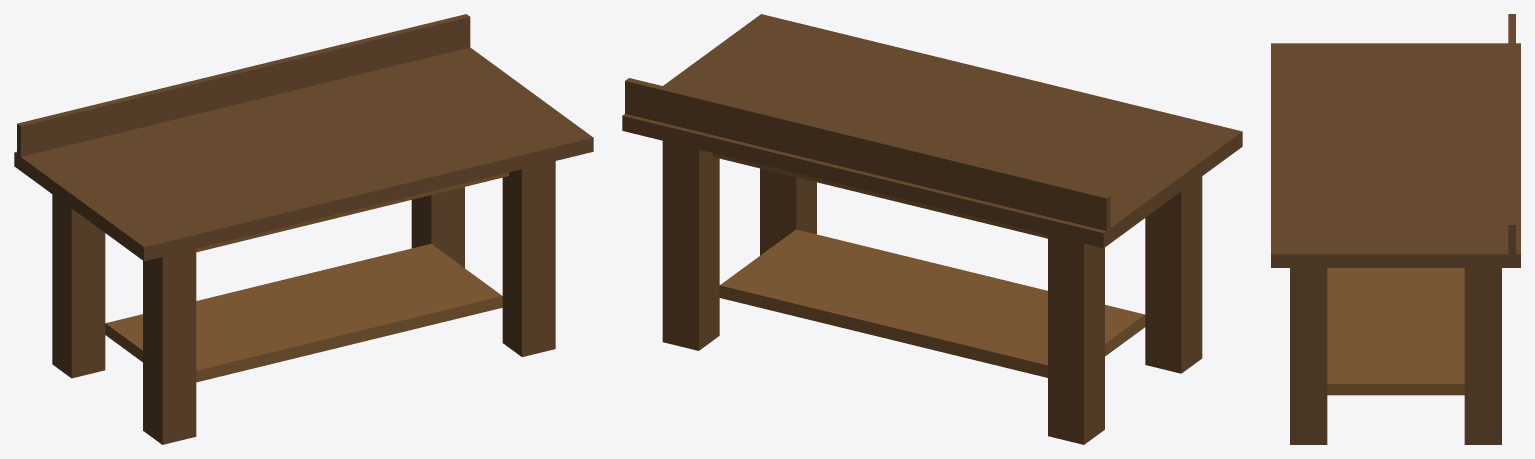
The model's file is etabli_horloger.glb.
3 renders of one model, left to right at view 1: azimuth 30°, elevation 25°; view 2: azimuth 150°, elevation 25°; view 3: azimuth 270°, elevation 25°, orthographic. The views are drawn at different scales.
Visible parts, largest first — view 1: etabli_horloger, plateau; view 2: etabli_horloger, plateau; view 3: plateau, etabli_horloger.
Boxes of the visible parts, x1,y1,x2,y2 form: etabli_horloger: [17, 14, 555, 444]; plateau: [14, 47, 593, 261]; etabli_horloger: [625, 78, 1202, 444]; plateau: [622, 14, 1242, 248]; plateau: [1271, 43, 1520, 267]; etabli_horloger: [1290, 14, 1515, 444].
Size of the model in its own units: 4 by 2.06 by 2.
